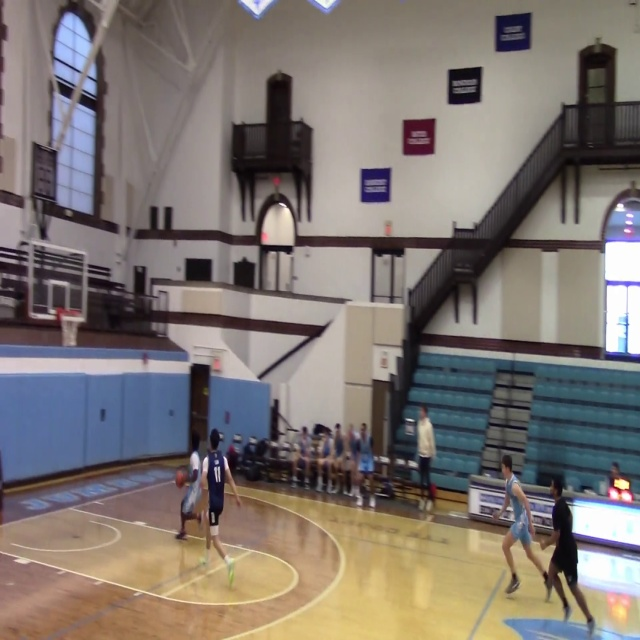Basketball: (188, 451, 201, 482), (175, 467, 187, 488)
